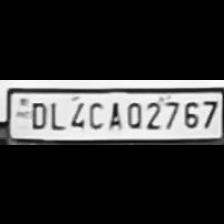2: (143, 98, 161, 128)
4: (66, 97, 86, 129)
6: (179, 97, 199, 129)
7: (200, 96, 220, 128), (160, 97, 178, 129)
A: (106, 98, 122, 128)
C: (84, 97, 104, 129)
D: (26, 97, 48, 127)
L: (47, 97, 65, 129)
Q: (122, 97, 142, 127)
